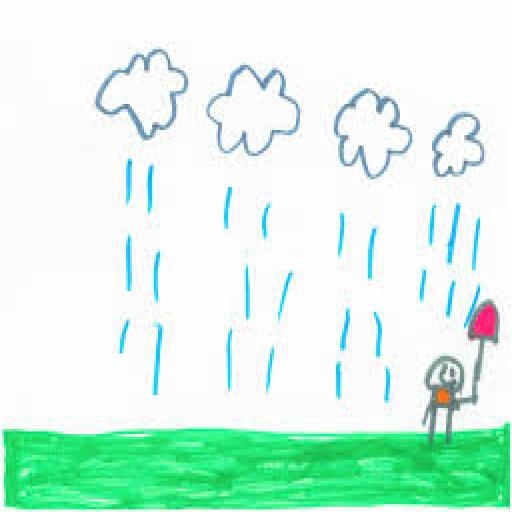person: (421, 352, 479, 450)
